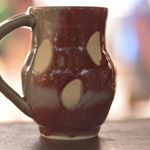cups: (1, 4, 119, 144)
